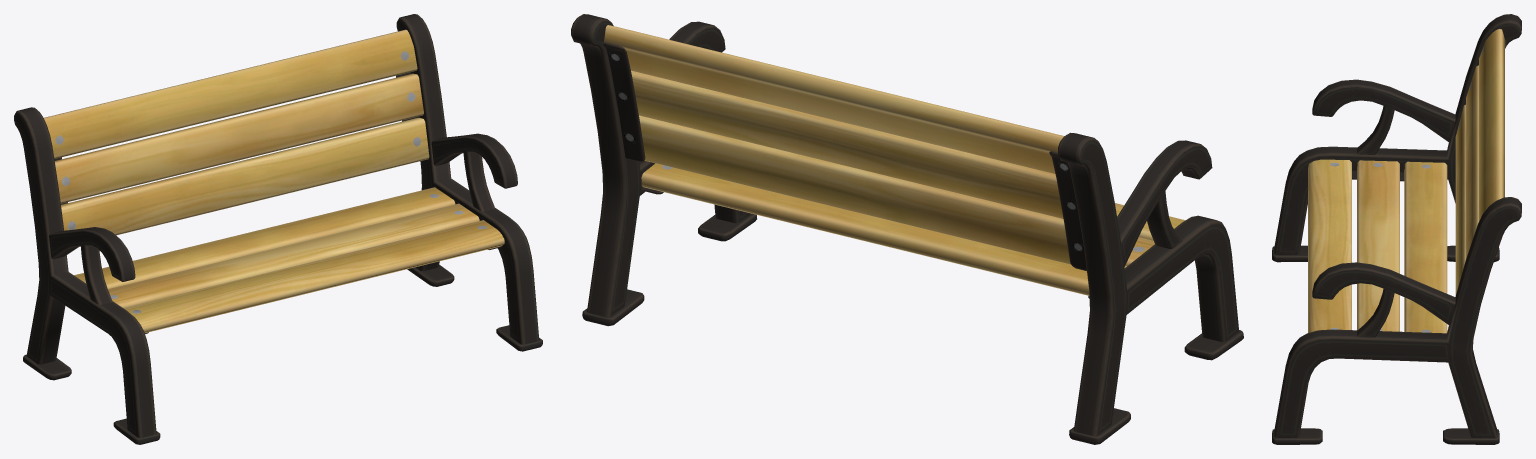
Rendered from bench-park.glb.
3 views of the same model, side by side, from view 1: azimuth 30°, elevation 25°; view 2: azimuth 150°, elevation 25°; view 3: azimuth 270°, elevation 25° (orthographic). The views are drawn at different scales.
Parts seen in each view (by area): view 1: iron01_low__mReBody; view 2: iron01_low__mReBody; view 3: iron01_low__mReBody.
Part boxes in pixels (x1,y1,x2,y2): iron01_low__mReBody: (14, 14, 542, 444); iron01_low__mReBody: (571, 14, 1243, 444); iron01_low__mReBody: (1272, 14, 1521, 444).
Size of the model in its own units: 1.75 by 1 by 0.9508.
1 material, 1 textured.
